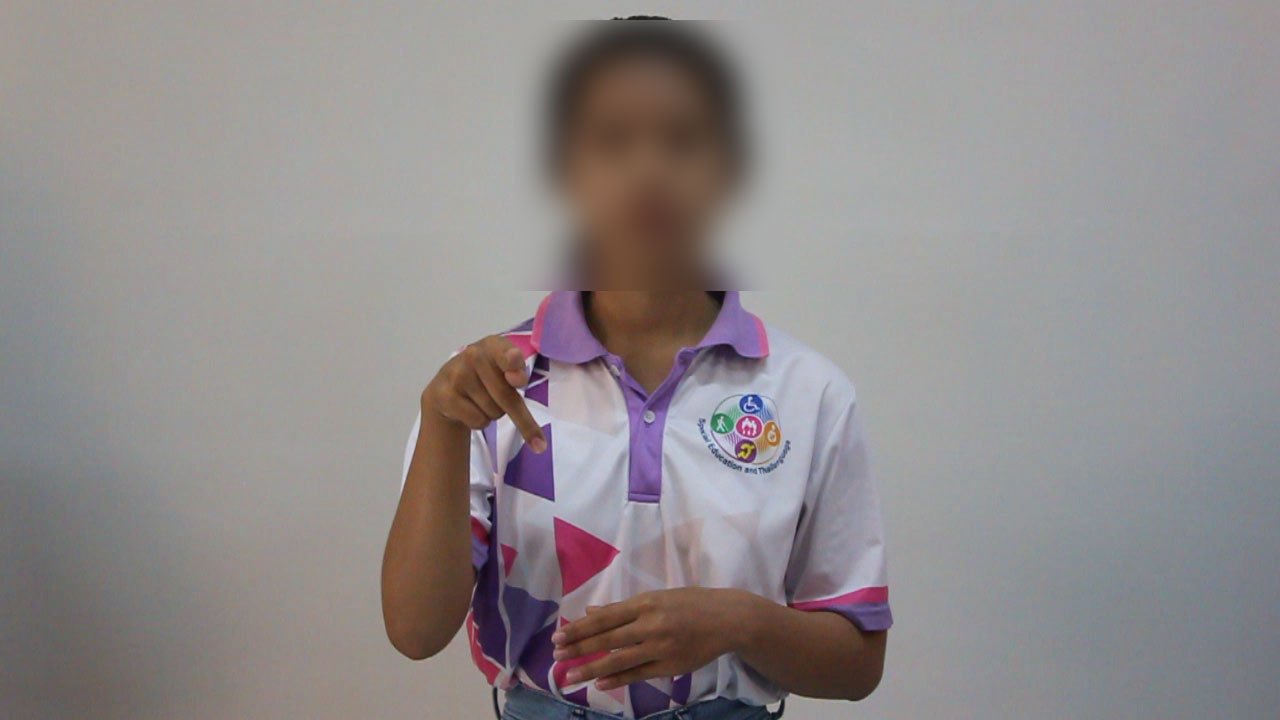por: (409, 319, 558, 470)
